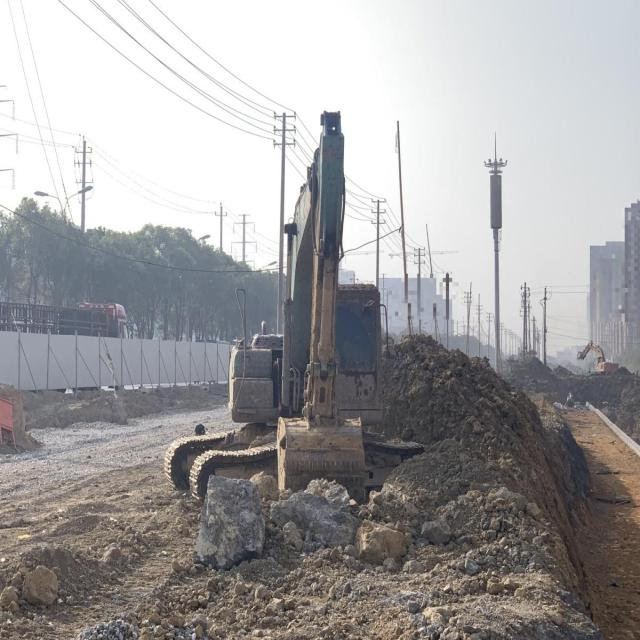excavator: (158, 100, 435, 519), (573, 336, 623, 380)
